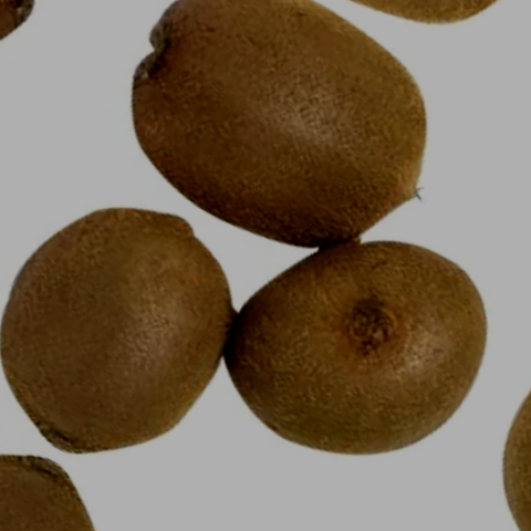kiwi: (58, 0, 499, 315), (166, 159, 531, 531), (0, 137, 277, 496)
